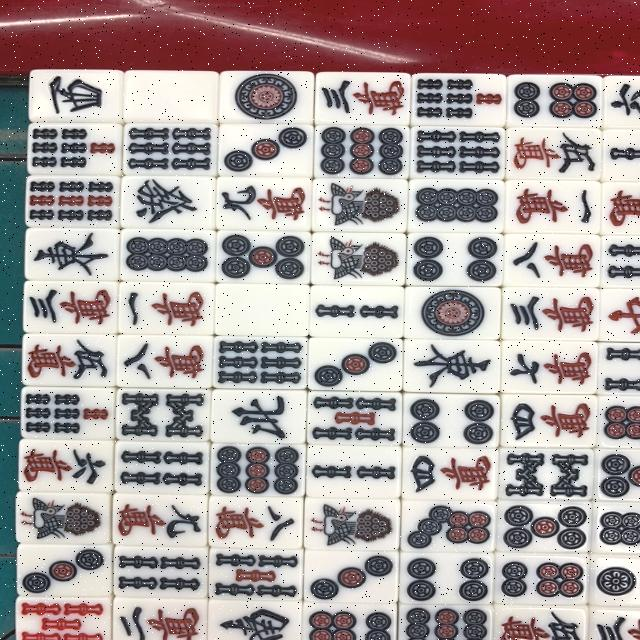bamboos_1: (310, 231, 407, 287), (14, 490, 110, 546), (312, 179, 408, 235), (302, 498, 399, 553)
bamboos_2: (306, 445, 402, 501), (308, 283, 404, 338)
bamboos_4: (117, 440, 213, 495), (113, 544, 209, 599)
bamboos_5: (306, 390, 403, 445), (206, 546, 302, 601)
bamboos_6: (120, 121, 216, 177), (213, 336, 309, 392), (408, 124, 505, 179)
bamboos_7: (21, 386, 118, 442), (411, 72, 508, 127), (26, 122, 122, 177)
bamboos_8: (114, 389, 211, 444), (499, 446, 596, 501)
bamboos_9: (24, 173, 120, 229)
characters_1: (117, 281, 214, 336), (504, 179, 600, 234)
characters_3: (23, 278, 119, 334), (500, 285, 596, 340), (316, 73, 411, 127)
characters_4: (404, 448, 500, 503), (501, 391, 597, 446)
characters_5: (21, 332, 117, 387), (507, 125, 603, 180)
characters_6: (16, 439, 113, 494)
characters_7: (501, 340, 597, 395)
characters_8: (116, 334, 212, 389), (206, 493, 302, 548), (503, 234, 599, 289)
characters_9: (111, 493, 208, 549), (213, 175, 309, 231)
circles_1: (218, 68, 314, 123), (404, 286, 500, 341)
circles_3: (308, 338, 405, 394), (303, 550, 399, 606), (18, 540, 115, 595), (215, 121, 311, 176)
circles_4: (402, 394, 498, 450), (403, 231, 499, 286), (400, 552, 496, 607)
circles_5: (496, 500, 593, 556), (216, 229, 313, 284)
circles_6: (494, 552, 590, 608), (508, 72, 604, 127)
circles_7: (398, 499, 494, 555)
circles_8: (118, 226, 214, 282), (406, 176, 503, 231)
circles_9: (209, 443, 306, 498), (312, 126, 408, 178)
east: (23, 224, 119, 280), (402, 340, 498, 396)
green: (119, 175, 215, 230)
north: (209, 388, 305, 443)
west: (27, 68, 124, 123)
white: (122, 67, 219, 123), (213, 283, 310, 338)
